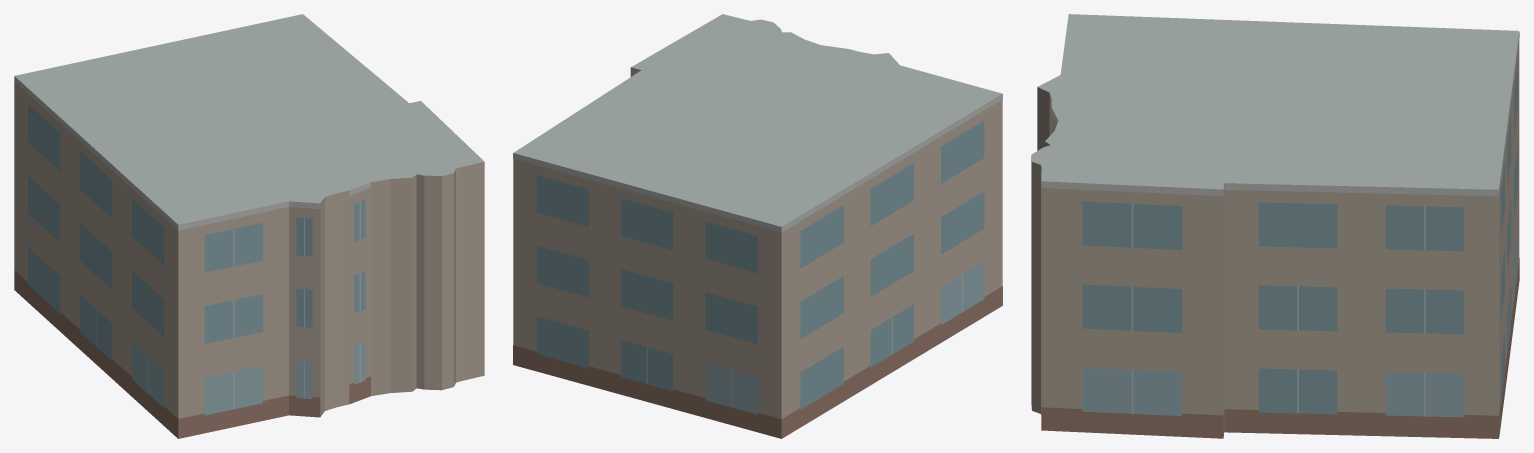
Rendered from survey-upis-32835274.glb.
3 views of the same model, side by side, from view 1: azimuth 30°, elevation 25°; view 2: azimuth 150°, elevation 25°; view 3: azimuth 270°, elevation 25° (orthographic). The views are drawn at different scales.
Visible parts, largest first — view 1: survey-upis-32835274.tmp; view 2: survey-upis-32835274.tmp; view 3: survey-upis-32835274.tmp.
Part boxes in pixels (<box>): survey-upis-32835274.tmp: <box>14,14,484,438</box>; survey-upis-32835274.tmp: <box>513,14,1002,438</box>; survey-upis-32835274.tmp: <box>1031,14,1519,438</box>.
Size of the model in its own units: 13.85 by 9.15 by 16.25.
